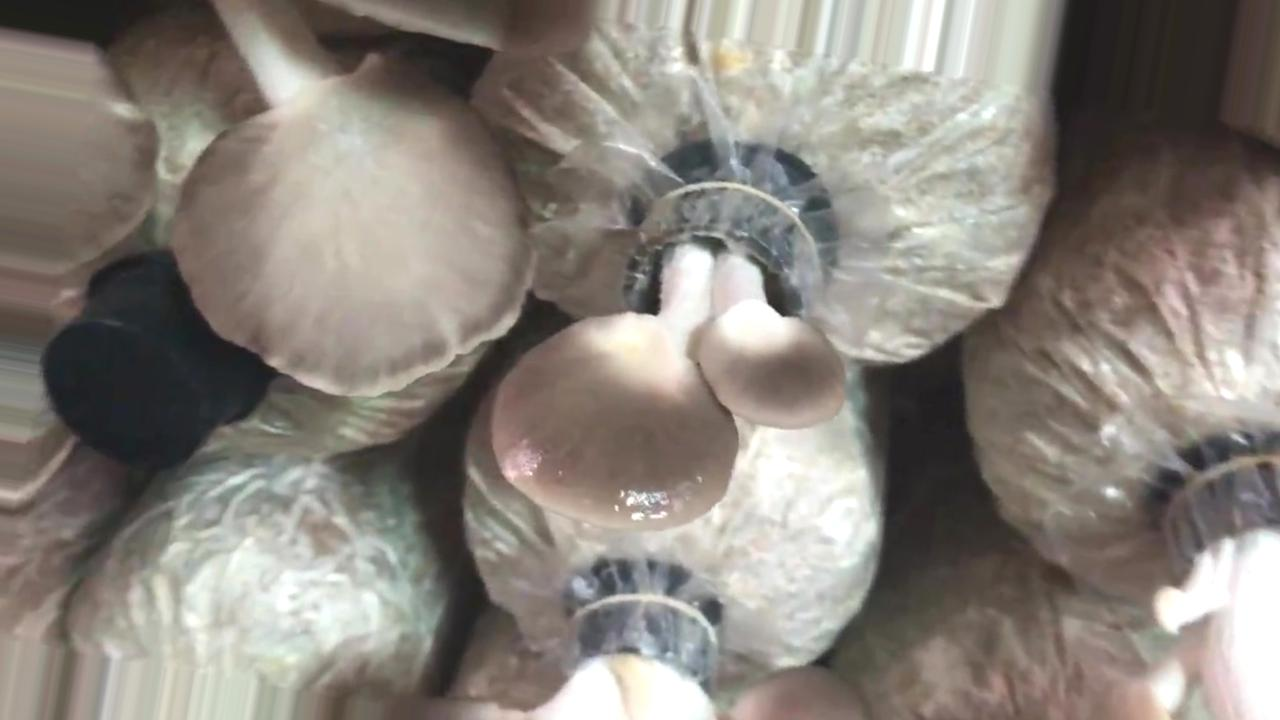nam: (2, 1, 591, 402), (499, 157, 856, 534), (292, 582, 870, 718)
